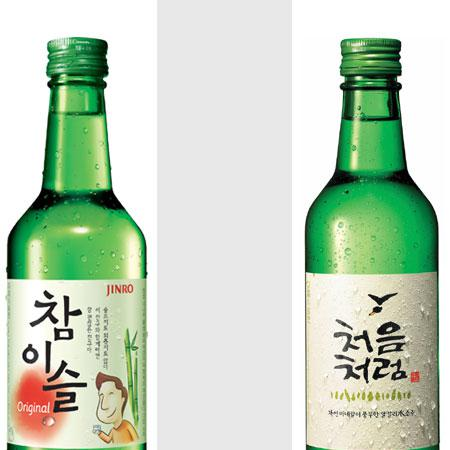soju: (5, 32, 152, 450), (300, 34, 445, 450)
